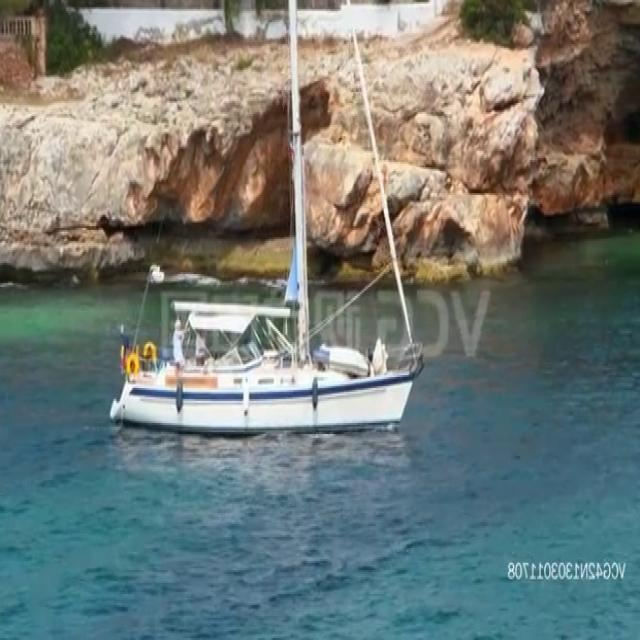sailboat: (108, 0, 426, 445)
